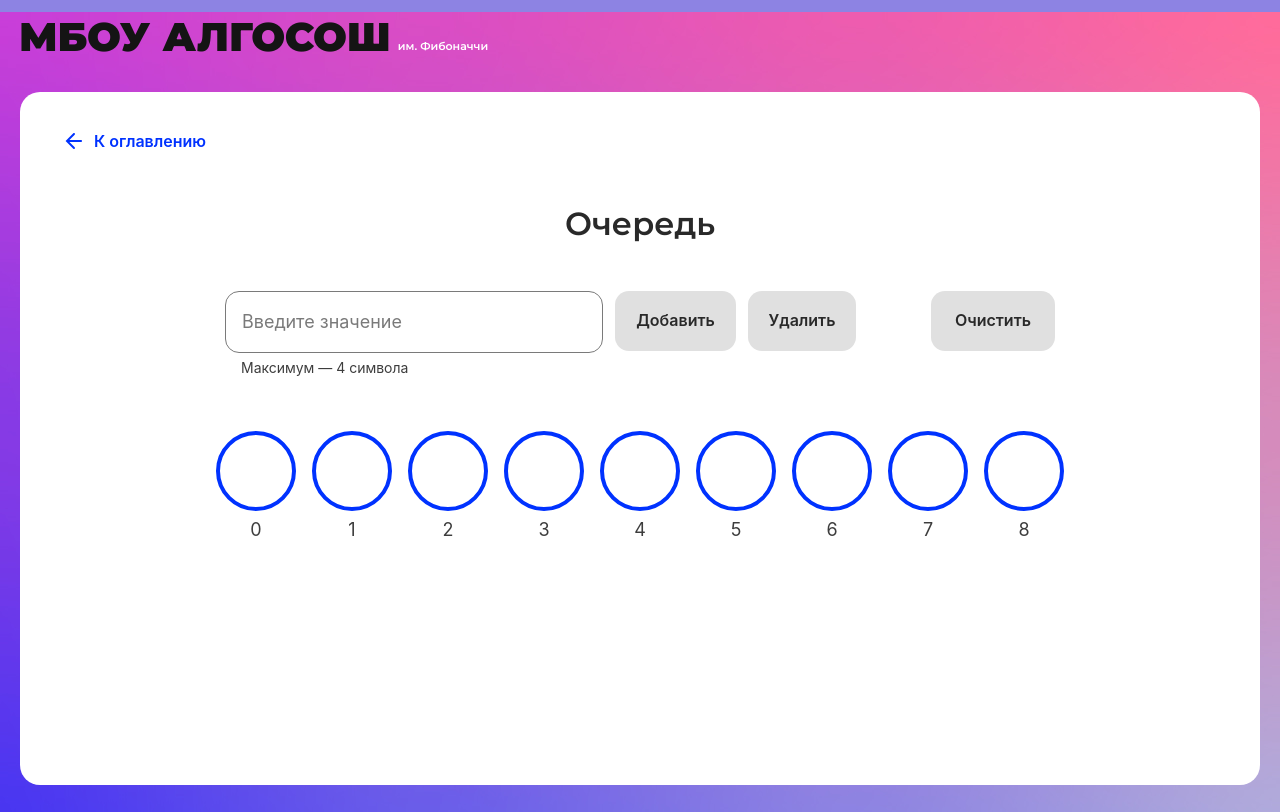
Test case: Queue tests › Remove element
Step 1. Type "one" into the field with test id "input" → [414, 322], box [225,291,603,353]
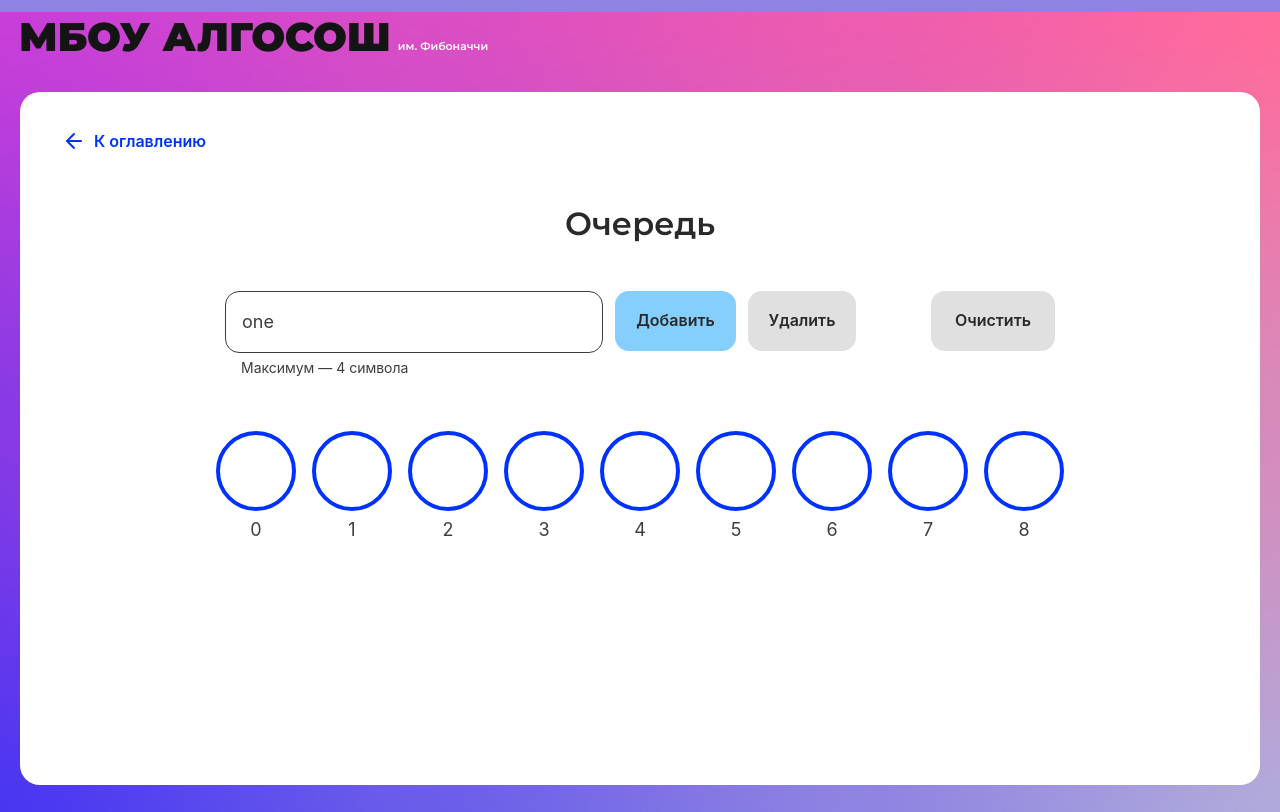
Step 2. Click the button with test id "add" → [676, 321], box [615,291,736,351]
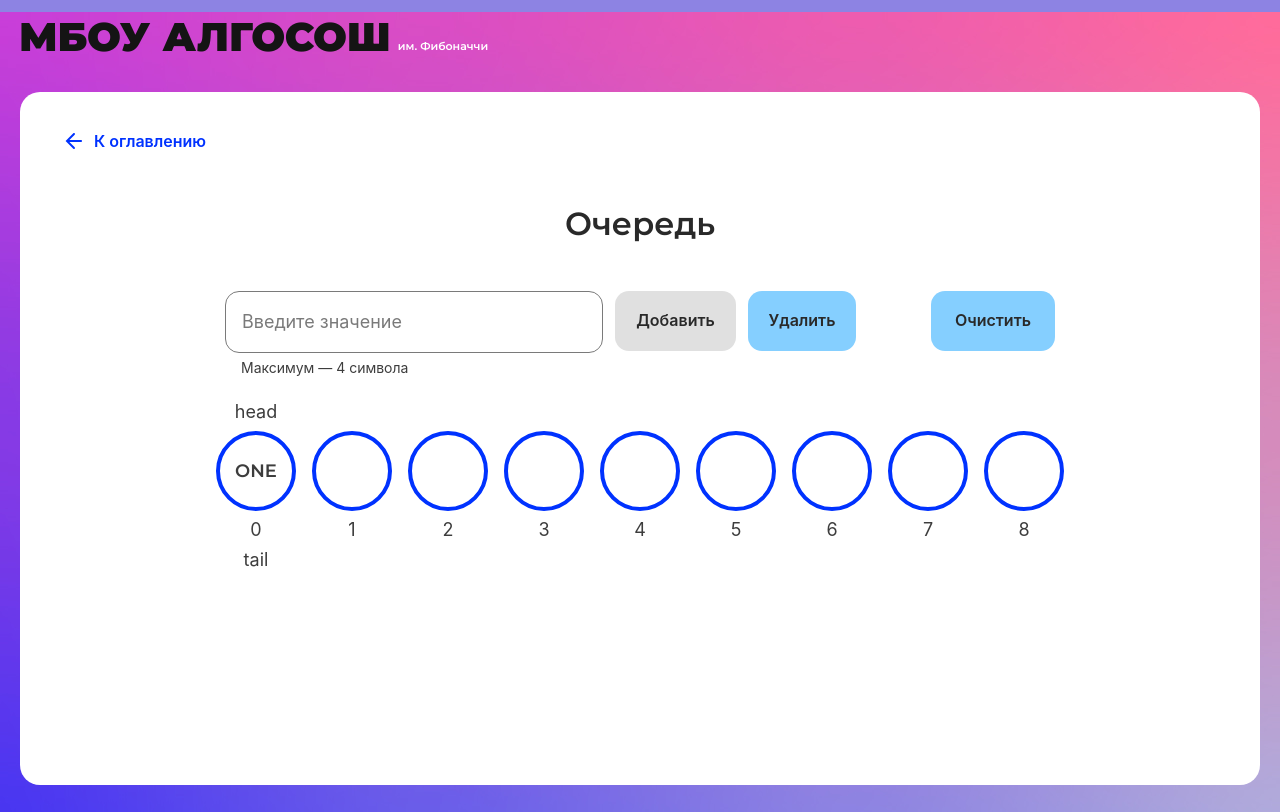
Step 3. Type "two" into the field with test id "input" → [414, 322], box [225,291,603,353]
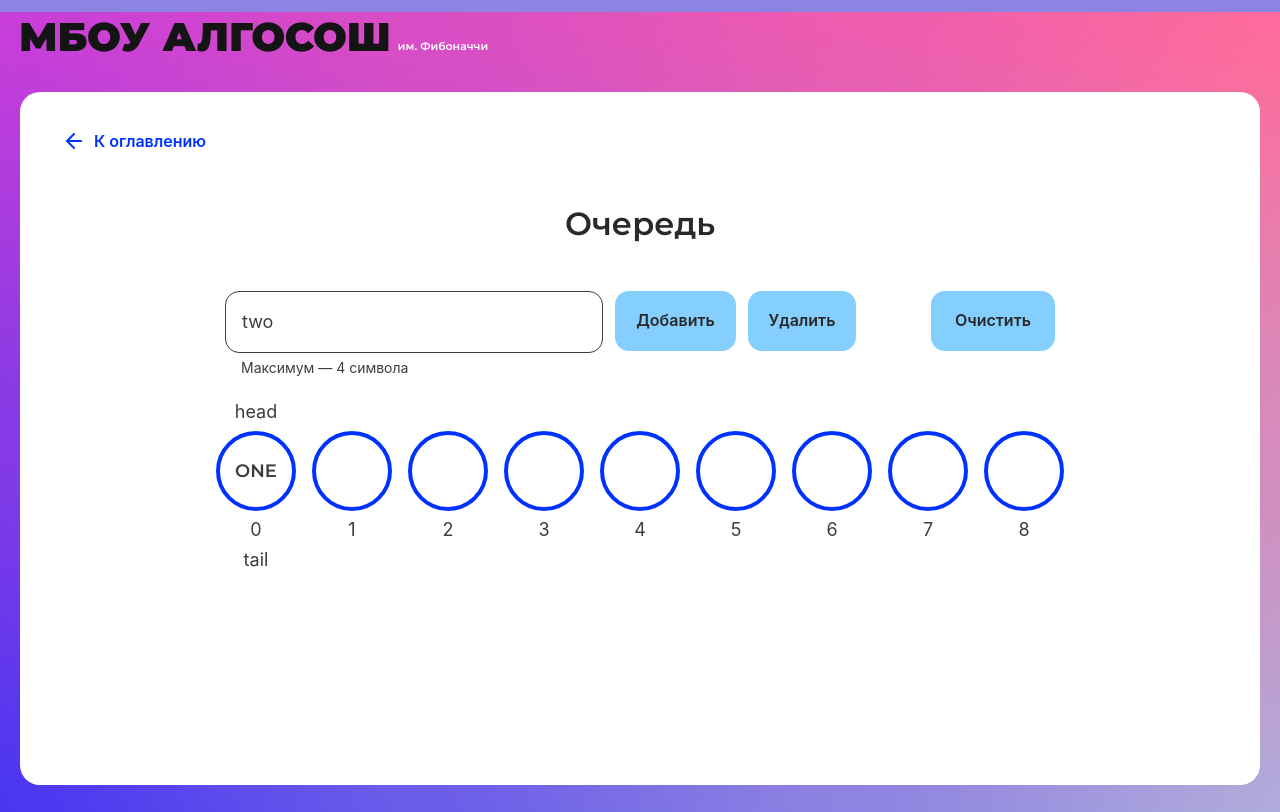
Step 4. Click the button with test id "add" → [676, 321], box [615,291,736,351]
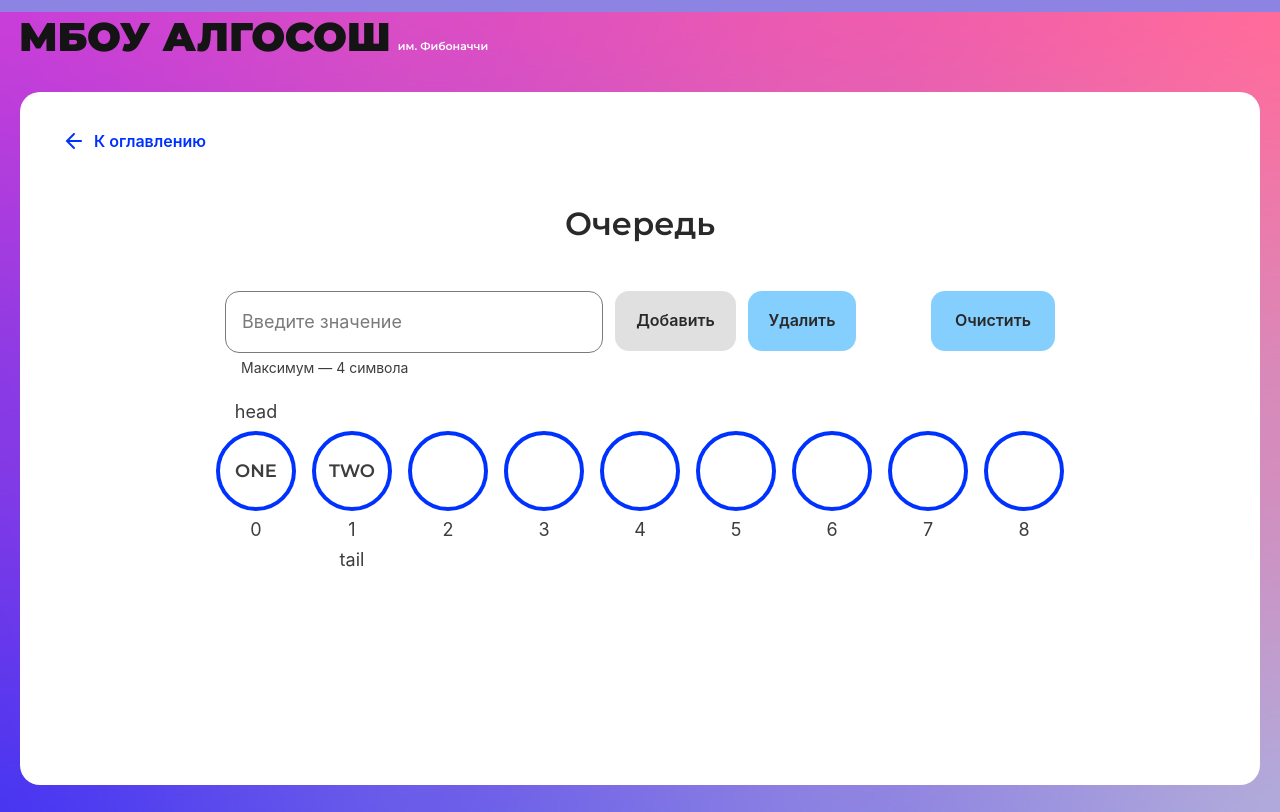
Step 5. Click the button with test id "remove" → [802, 321], box [748,291,856,351]
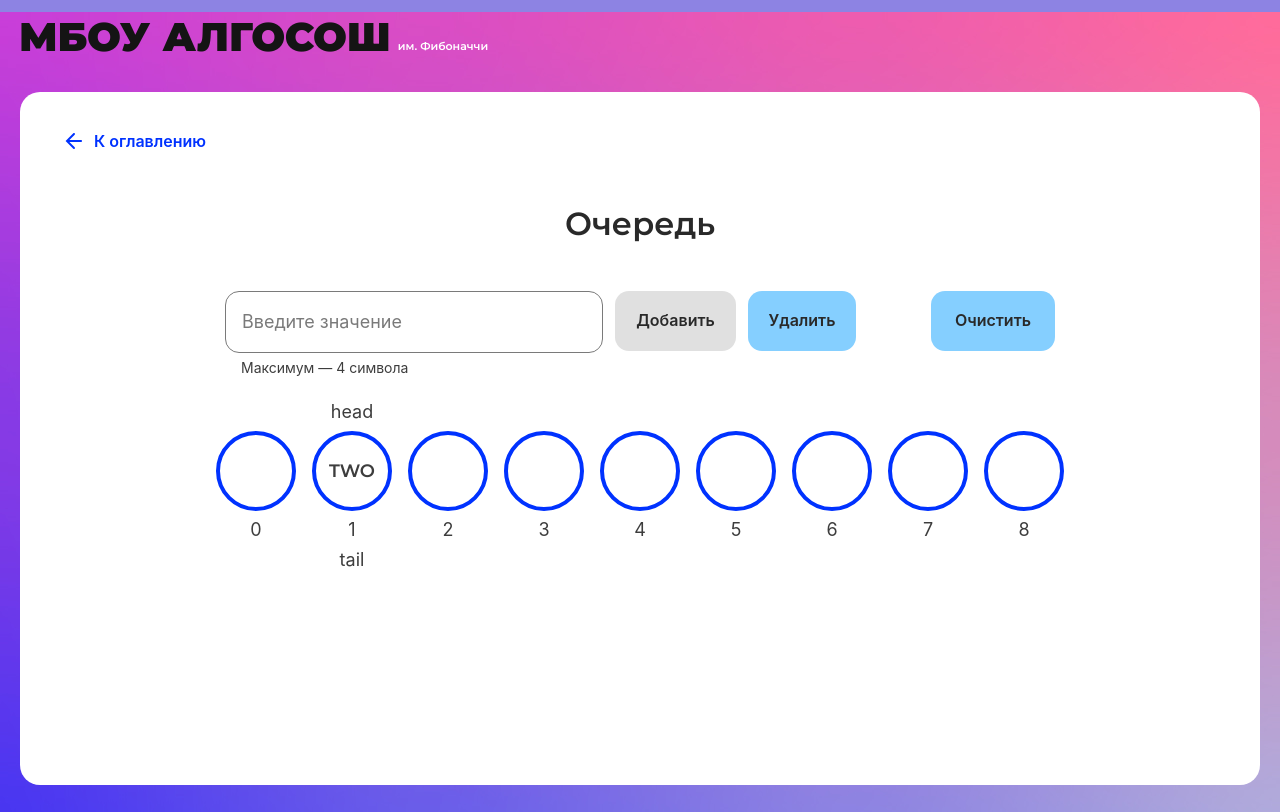
Check: the button with test id "add" is disabled, box [615,291,736,351]
Check: the text with test id "circleHead" reads "head", box [331,401,373,422]
Check: the text with test id "circleContainer" no longer shows "one"
